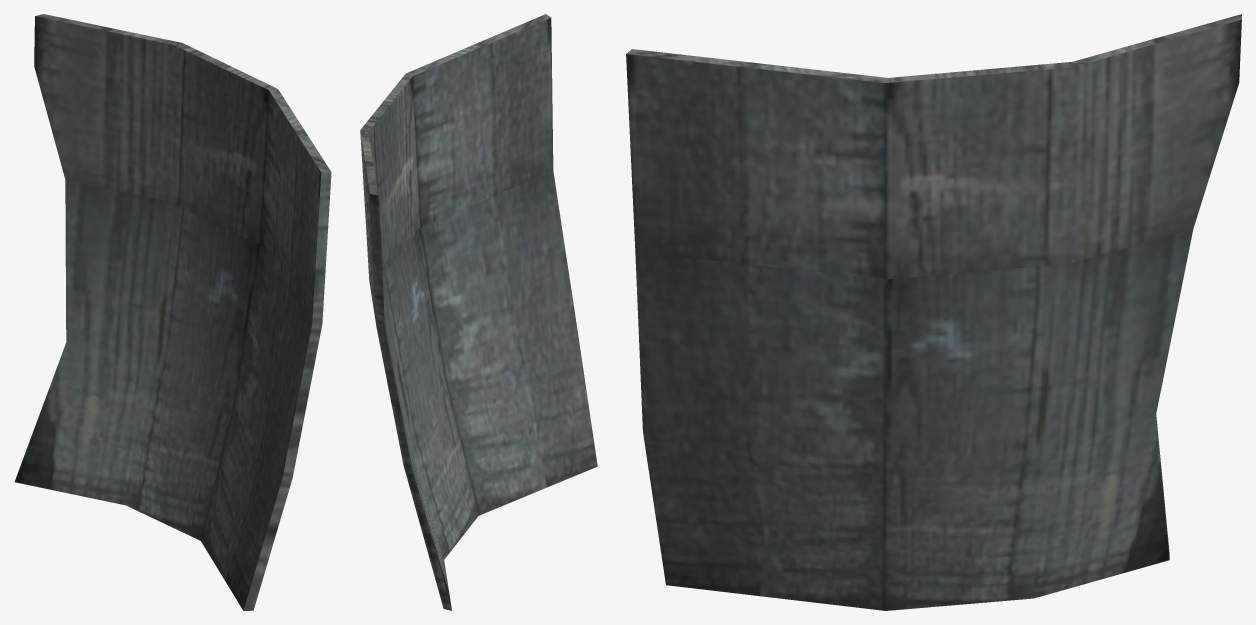
Rendered from flower_barrel_p1.glb.
3 renders of one model, left to right at view 1: azimuth 30°, elevation 25°; view 2: azimuth 150°, elevation 25°; view 3: azimuth 270°, elevation 25°, orthographic. The views are drawn at different scales.
Visible parts, largest first — view 1: flower_barrel_p1; view 2: flower_barrel_p1; view 3: flower_barrel_p1.
Boxes of the visible parts, box(x1,y1,x2,y2) form: flower_barrel_p1: box(14, 14, 331, 610); flower_barrel_p1: box(360, 14, 597, 610); flower_barrel_p1: box(626, 14, 1241, 610).
Bounding box in the file's own units: 0.1646 × 0.439 × 0.4289.
1 material, 1 textured.
